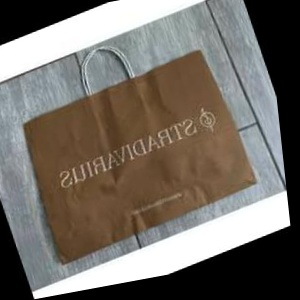stradivarius: (193, 33, 252, 150)
